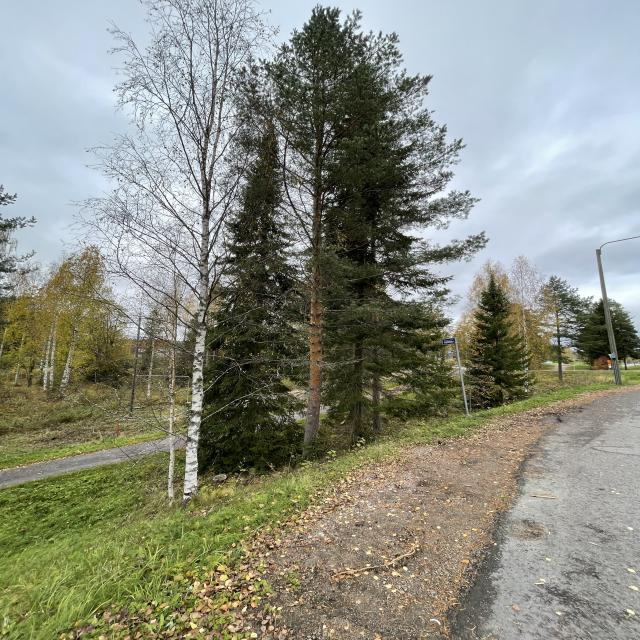spruce: (279, 81, 463, 441), (168, 111, 328, 481), (459, 264, 541, 415)
